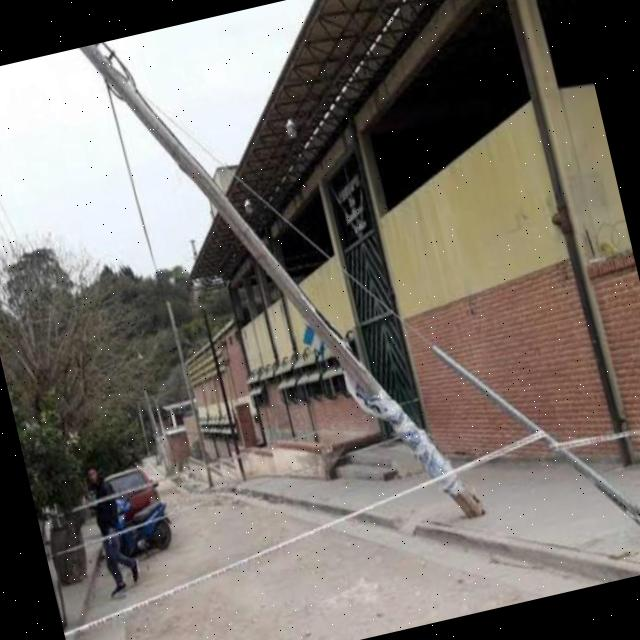Broken Pole: (71, 40, 487, 522)
